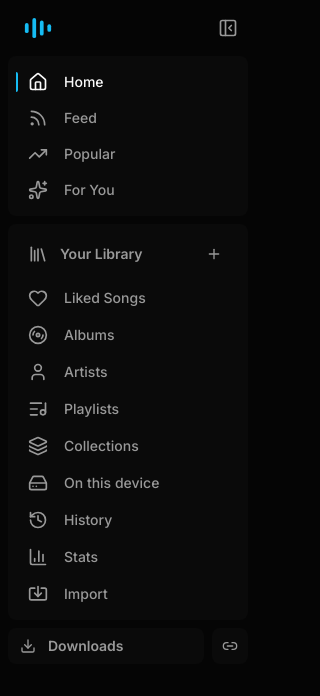
Test case: toggles back to expanded
This screenshot has width=320, height=696.
Click the button named "Expand sidebar": (228,28) [212,12,244,44]
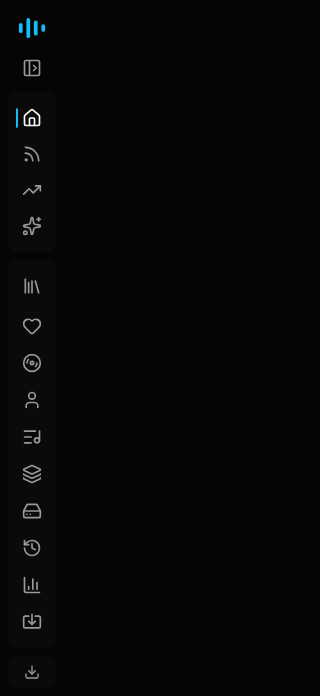
Click the button named "Expand sidebar": (32,68) [16,52,48,84]
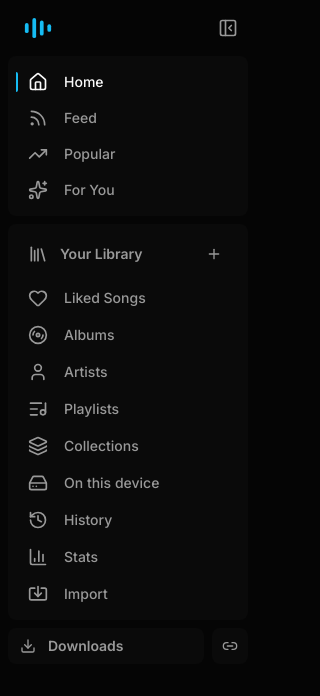
Result: the text "Your Library" is shown at [28,244,143,264]
